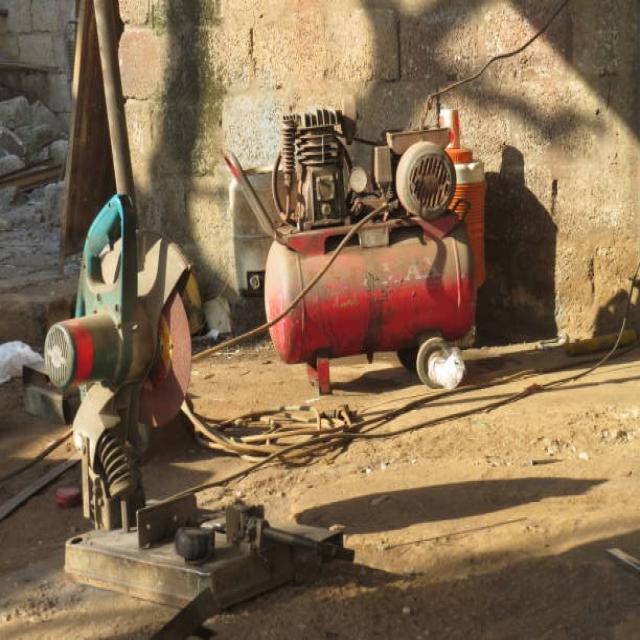compressor: (223, 99, 485, 395)
